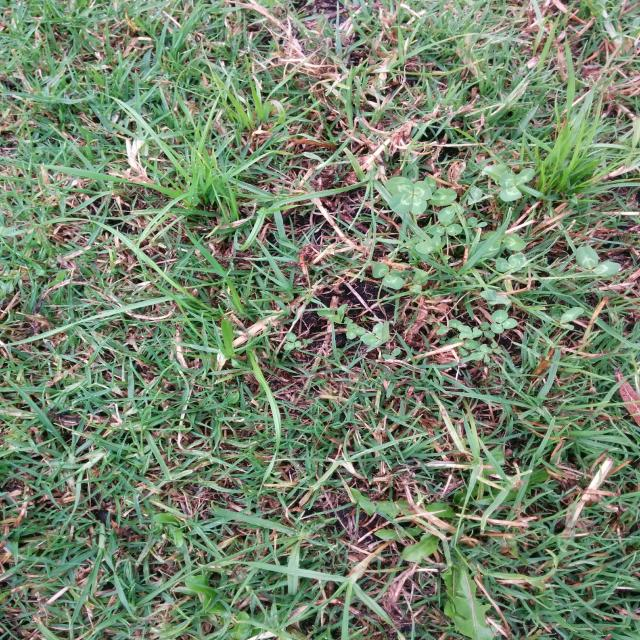Four Leaf Clover: (385, 177, 431, 215)
